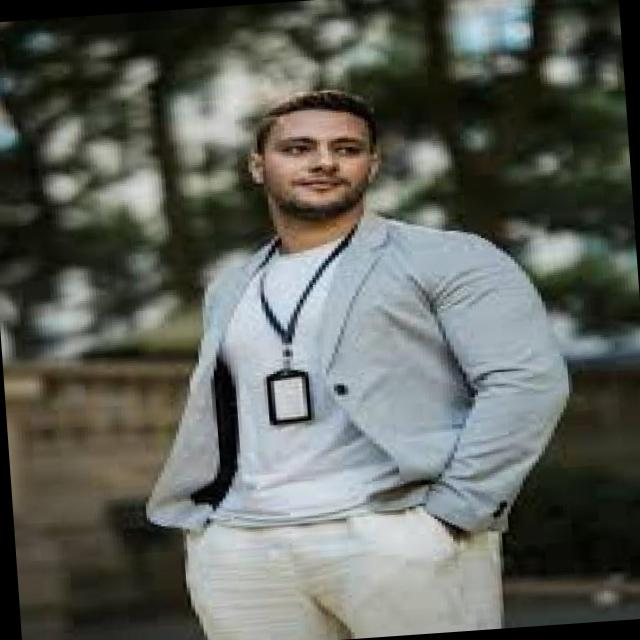id_card: (242, 213, 351, 438)
